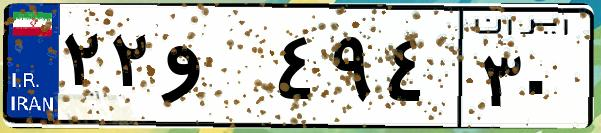0: (525, 38, 570, 115)
2: (57, 26, 110, 100), (110, 28, 158, 98)
3: (475, 38, 525, 113)
4: (270, 28, 330, 110), (385, 28, 445, 110)
9: (330, 28, 385, 110)
و: (158, 20, 270, 120)
